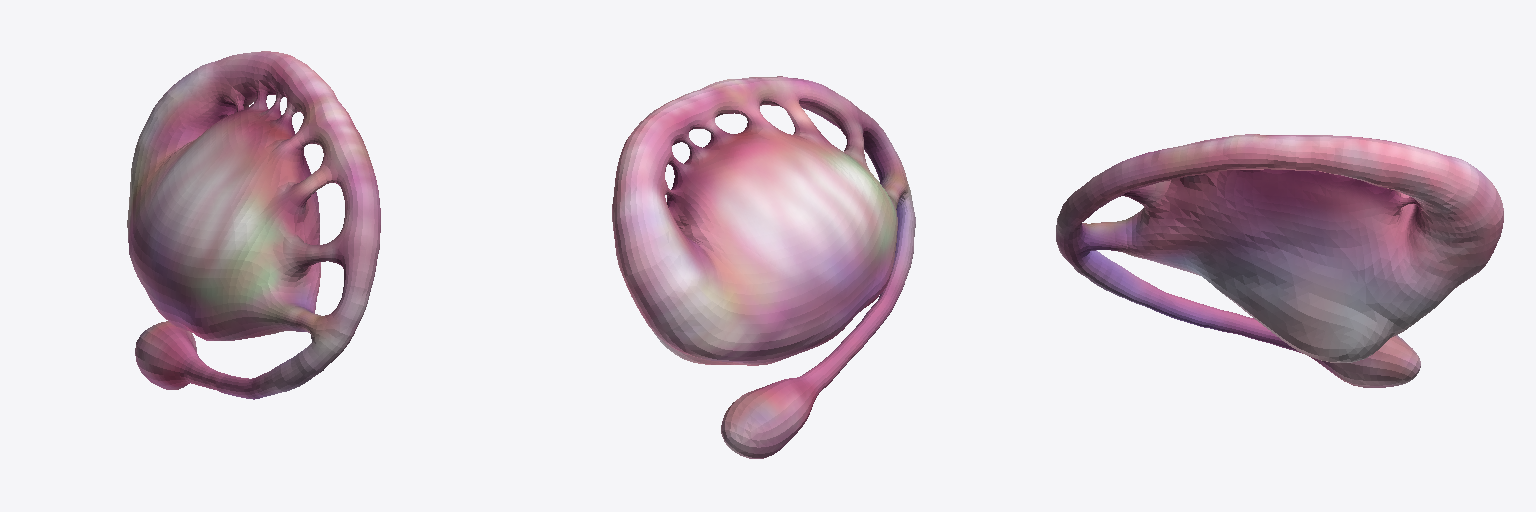
The picture shows the model from 3 angles: view 1: azimuth 30°, elevation 25°; view 2: azimuth 150°, elevation 25°; view 3: azimuth 270°, elevation 25°; orthographic projection.
Visible parts, largest first — view 1: Group63990; view 2: Group63990; view 3: Group63990.
Boxes of the visible parts, x1,y1,x2,y2 form: Group63990: [127, 51, 380, 399]; Group63990: [612, 76, 915, 458]; Group63990: [1056, 134, 1503, 387].
Size of the model in its own units: 308 by 499 by 664.
1 materials, 1 textured.